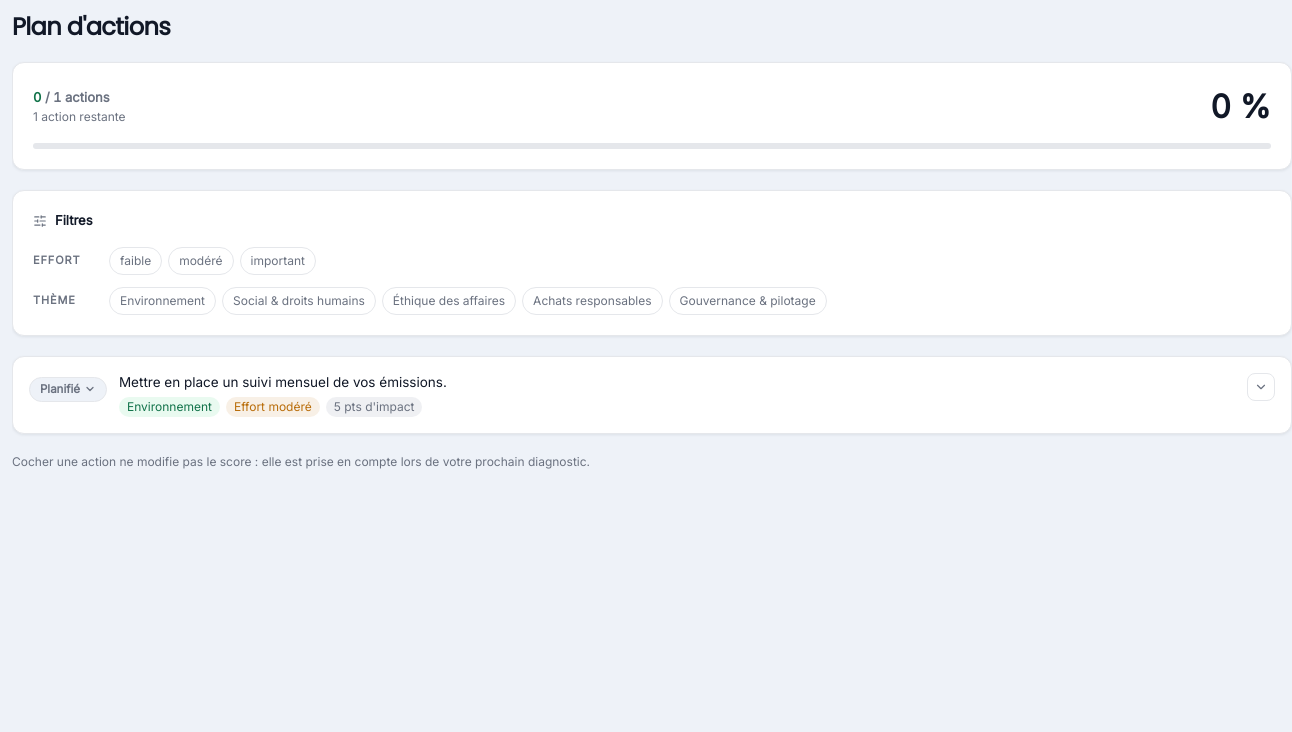
it: PlanActionsPage › Admin/User passent une action de Planifié à Terminé en un seul changement
The width and height of the screenshot is (1292, 732).
What coordinates should you click on to do the following:
click the button with aria-label "Statut : Planifié"
I would click on:
 (68, 389)
Its box is [29, 376, 107, 402].
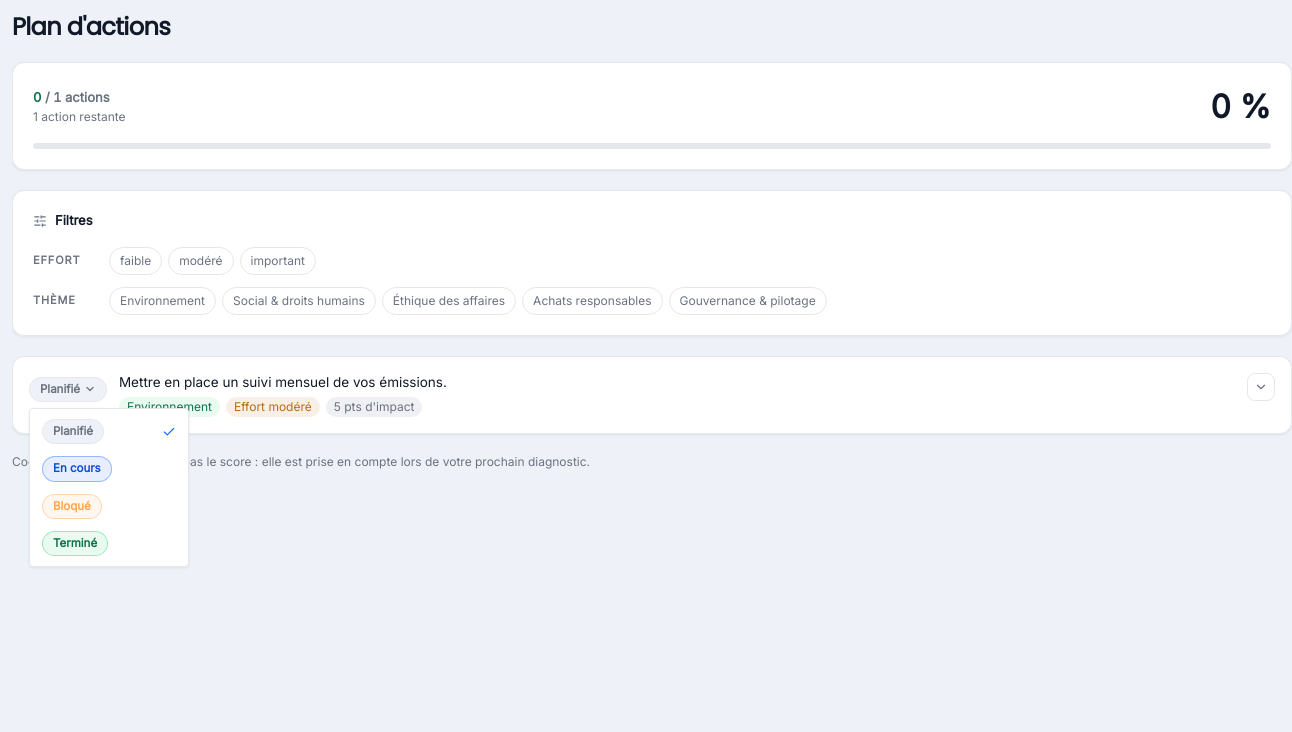
What coordinates should you click on to do the following:
click the menu item "Terminé"
I would click on:
 (75, 543)
Its box is [42, 531, 108, 556].
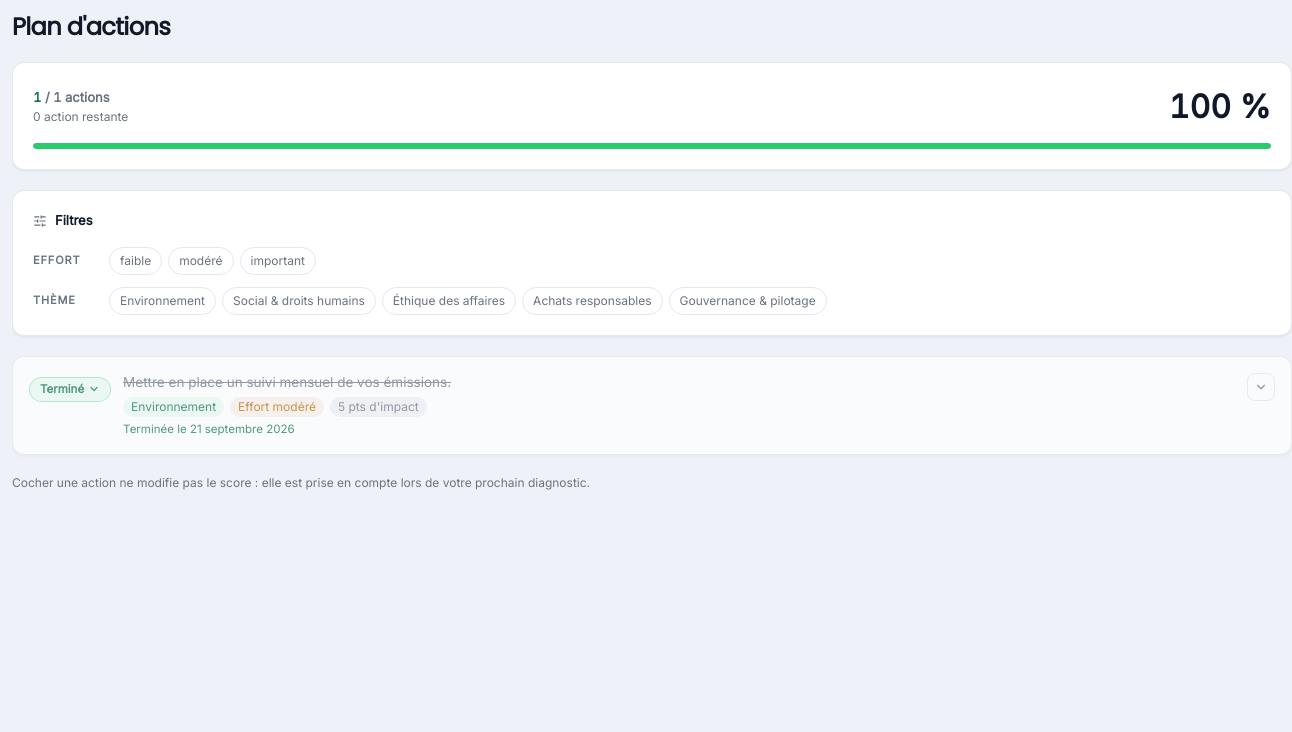
Now the button with aria-label "Statut : Terminé" is shown, box [29, 376, 111, 402]
